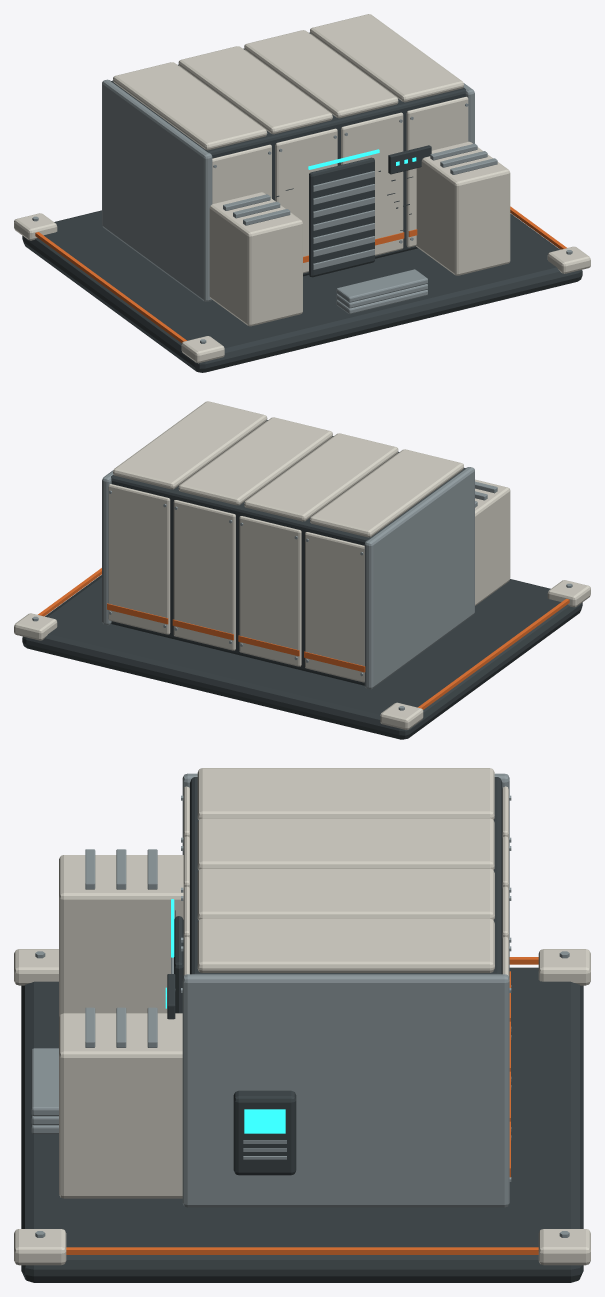
The model's file is SM_PrecisionEngineeringPlant_Body.fbx.
3 views of the same model, one above another, from view 1: azimuth 30°, elevation 25°; view 2: azimuth 150°, elevation 25°; view 3: azimuth 270°, elevation 25° (orthographic). The views are drawn at different scales.
Parts seen in each view (by area): view 1: SM_PrecisionEngineeringPlant_Body; view 2: SM_PrecisionEngineeringPlant_Body; view 3: SM_PrecisionEngineeringPlant_Body.
Boxes of the visible parts, left/top/right/bottom form: SM_PrecisionEngineeringPlant_Body: left=14, top=14, right=590, bottom=372; SM_PrecisionEngineeringPlant_Body: left=14, top=401, right=590, bottom=739; SM_PrecisionEngineeringPlant_Body: left=14, top=768, right=590, bottom=1282.
Size of the model in its own units: 572 by 462 by 243.
